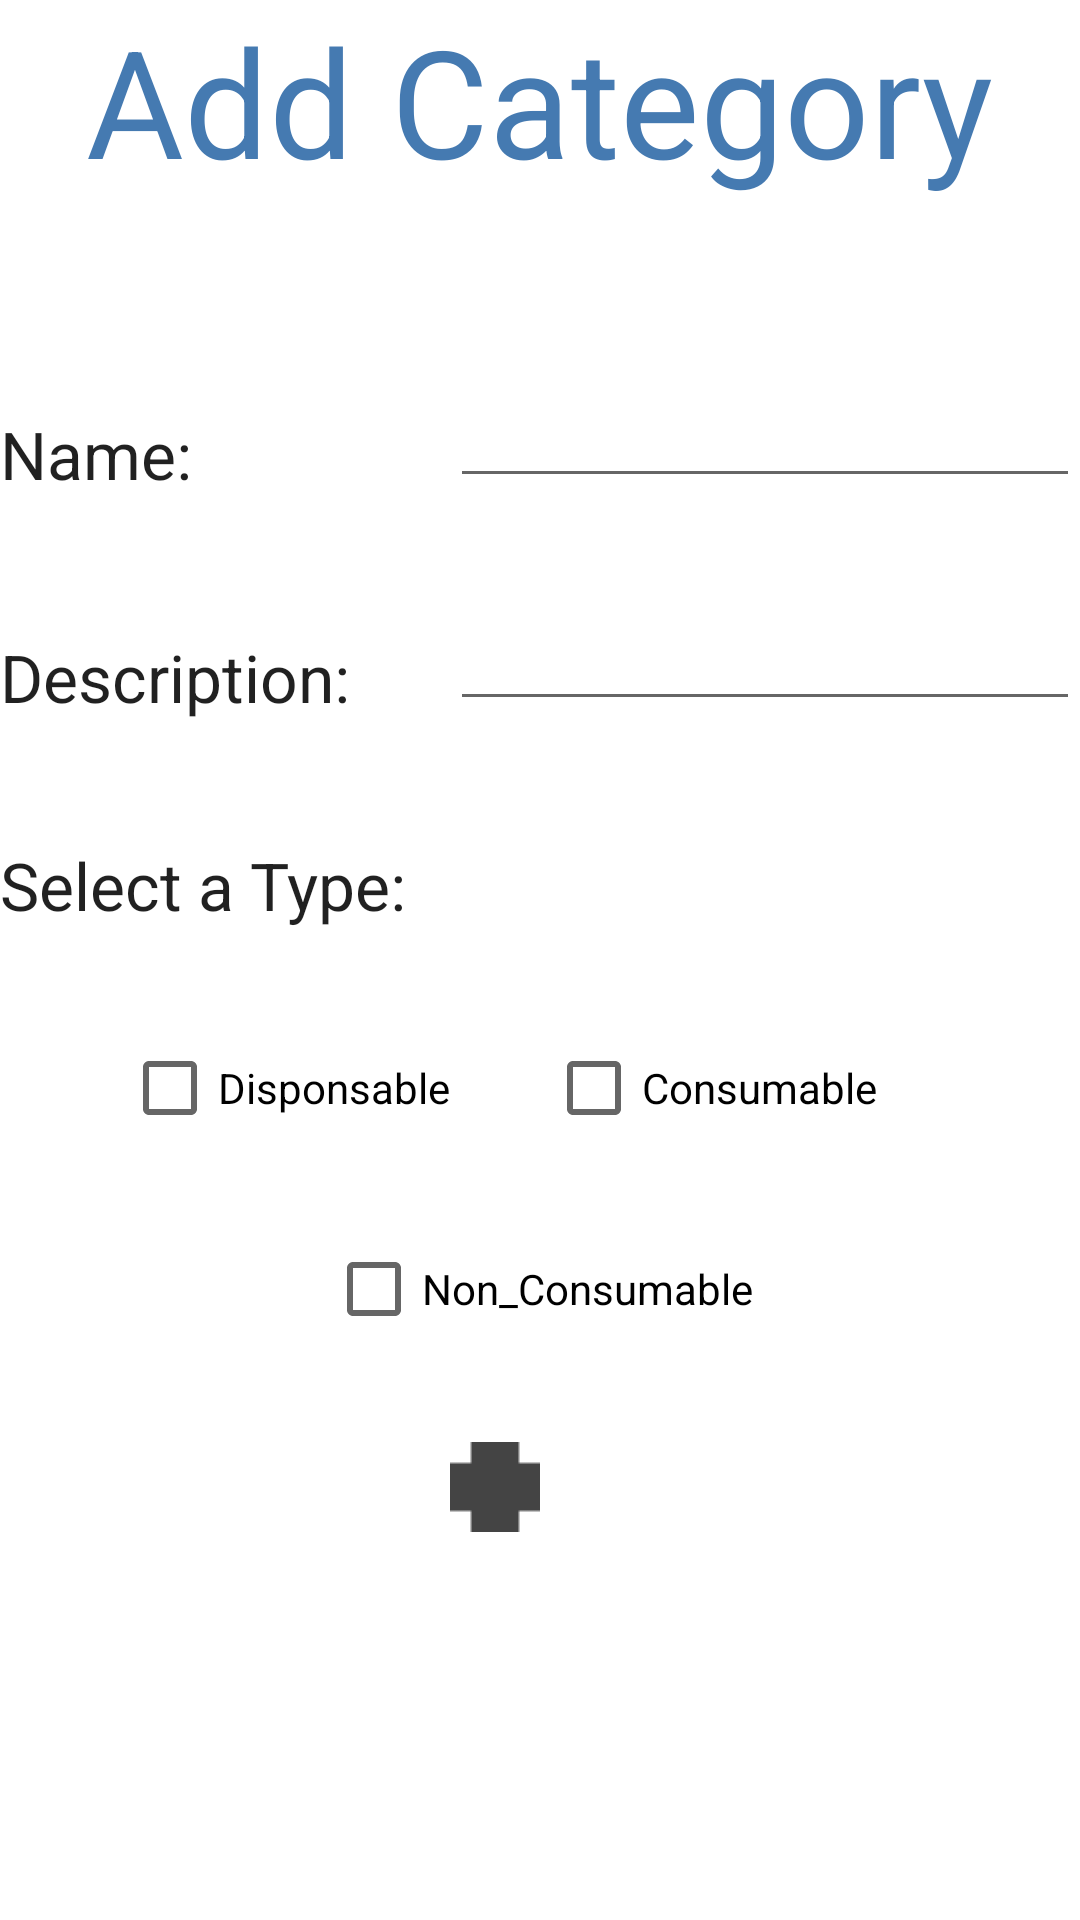

Icon bounding boxes for this 1080 × 1920 phone screenshot, format (x1, y1, x2, y2):
plus: (450, 1442, 540, 1532)
